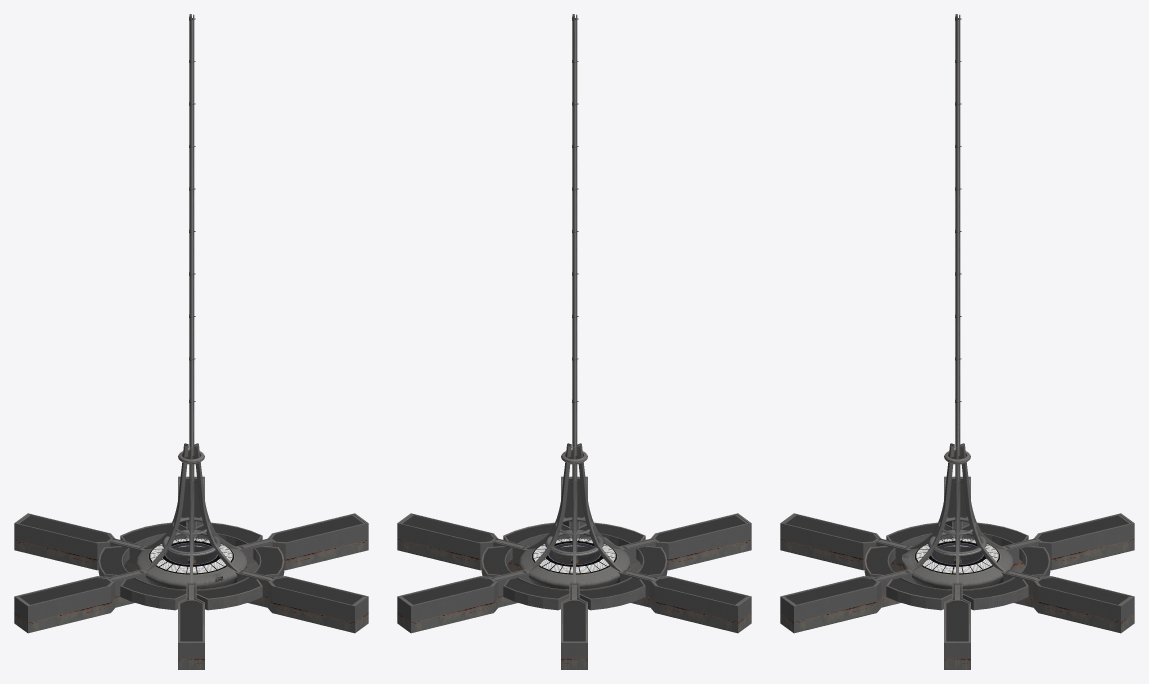
The model's file is international_space_elevator.glb.
3 renders of one model, left to right at view 1: azimuth 30°, elevation 25°; view 2: azimuth 150°, elevation 25°; view 3: azimuth 270°, elevation 25°, orthographic.
Parts seen in each view (by area): view 1: ISEV; view 2: ISEV; view 3: ISEV.
Boxes of the visible parts, x1,y1,x2,y2 form: ISEV: (14,14,368,669); ISEV: (397,14,751,669); ISEV: (780,14,1134,669).
Bounding box in the file's own units: 670 × 1074 × 604.
Materials: 1 (1 with a texture image).
